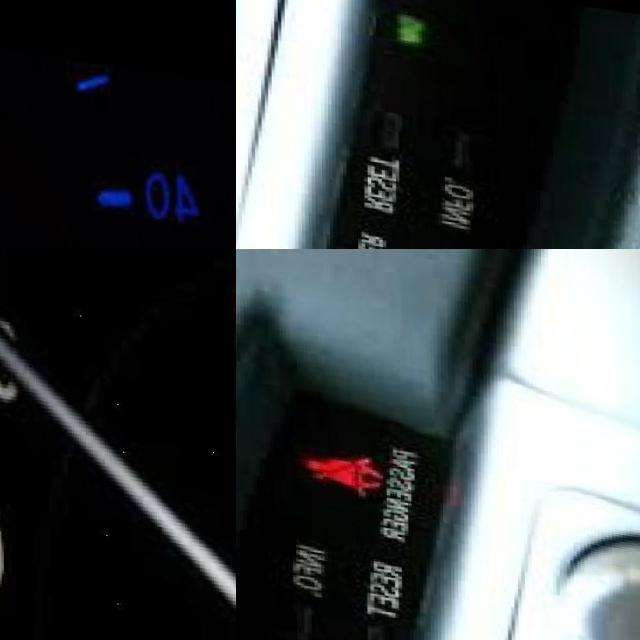Seat Belt: (305, 436, 384, 488)
